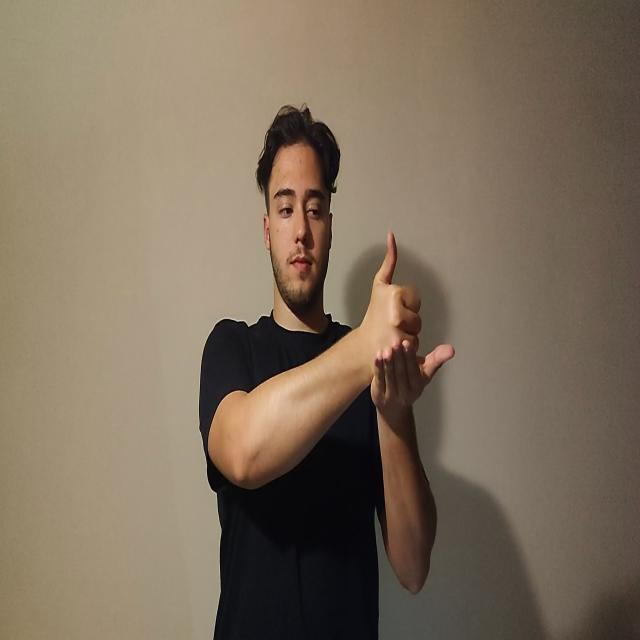help: (362, 236, 456, 405)
